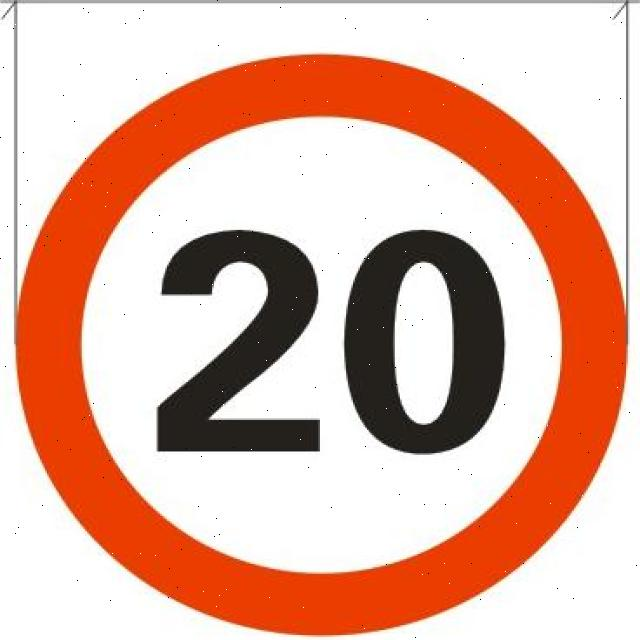speed limit 20: (16, 51, 626, 637)
